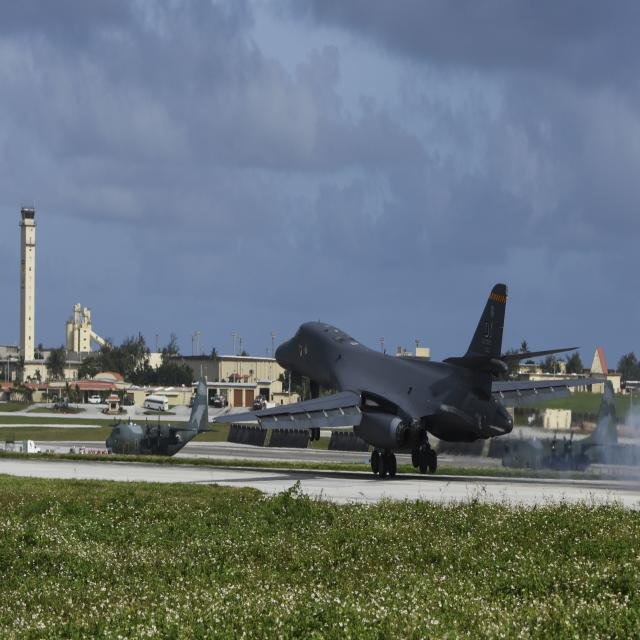MIL_Plane: (212, 283, 606, 477), (492, 28, 624, 119), (105, 57, 220, 135)
